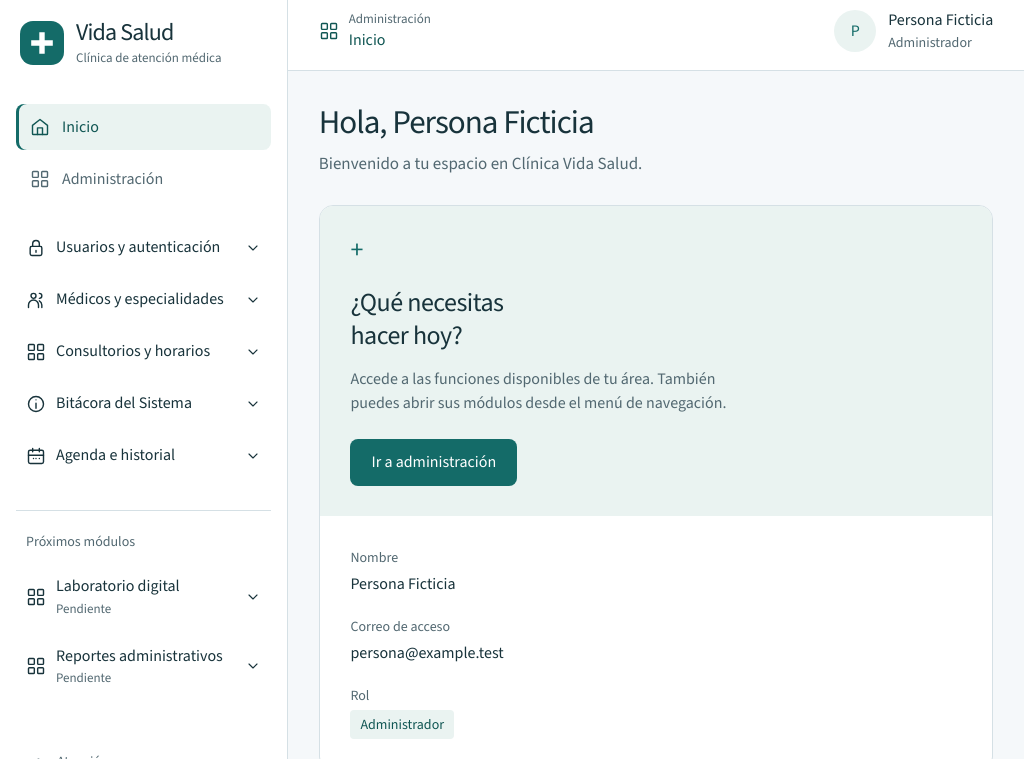
Scenario: rutas y navegación CU-30 fase 1 › Administrador abre Bitácora desde el menú, con título, foco y enlace activo
Click the button "Bitácora del Sistema": (144, 404) x1=16 y1=380 x2=271 y2=428
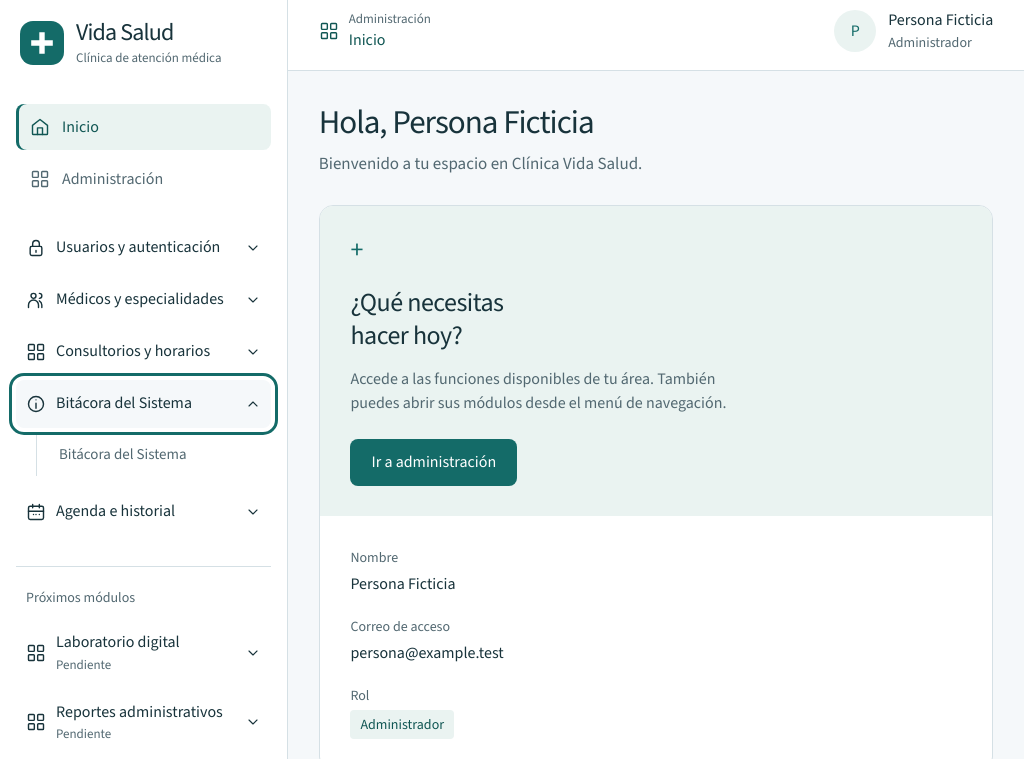
Click the link "Bitácora del Sistema": (123, 454) x1=59 y1=444 x2=186 y2=464
(page scrolled)
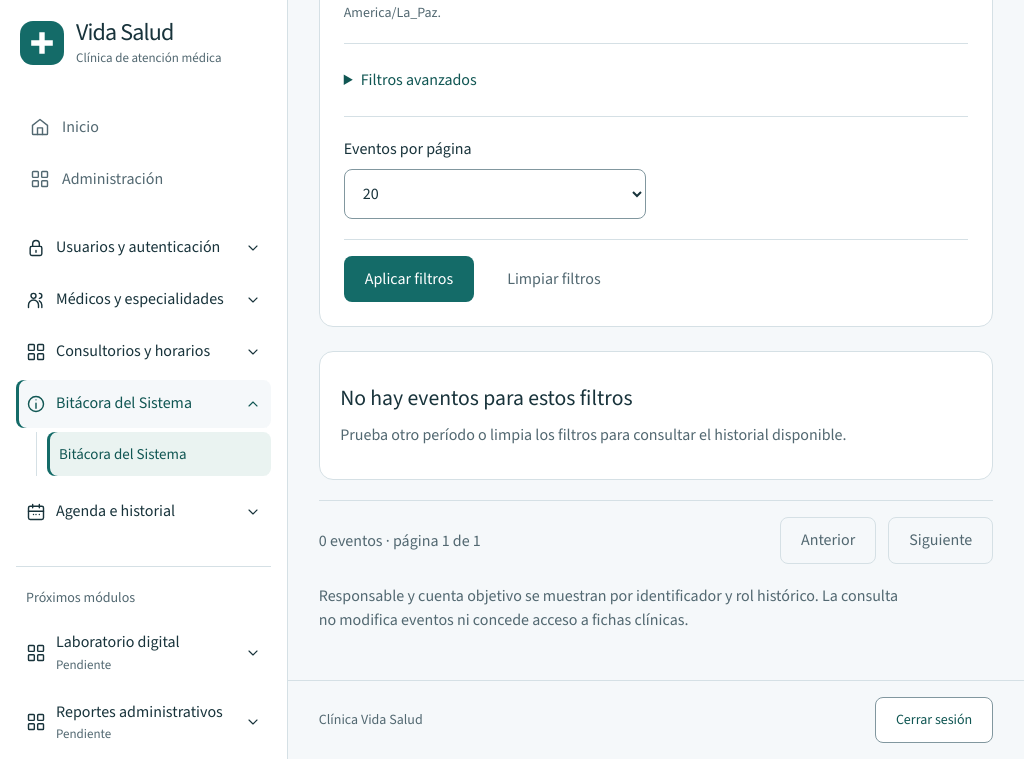
Now the heading "No hay eventos para estos filtros" is shown, box x1=340 y1=383 x2=632 y2=412
